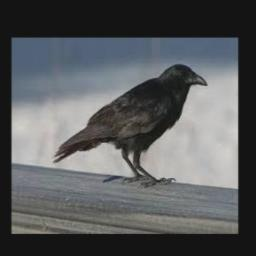Crow: (50, 64, 207, 187)
